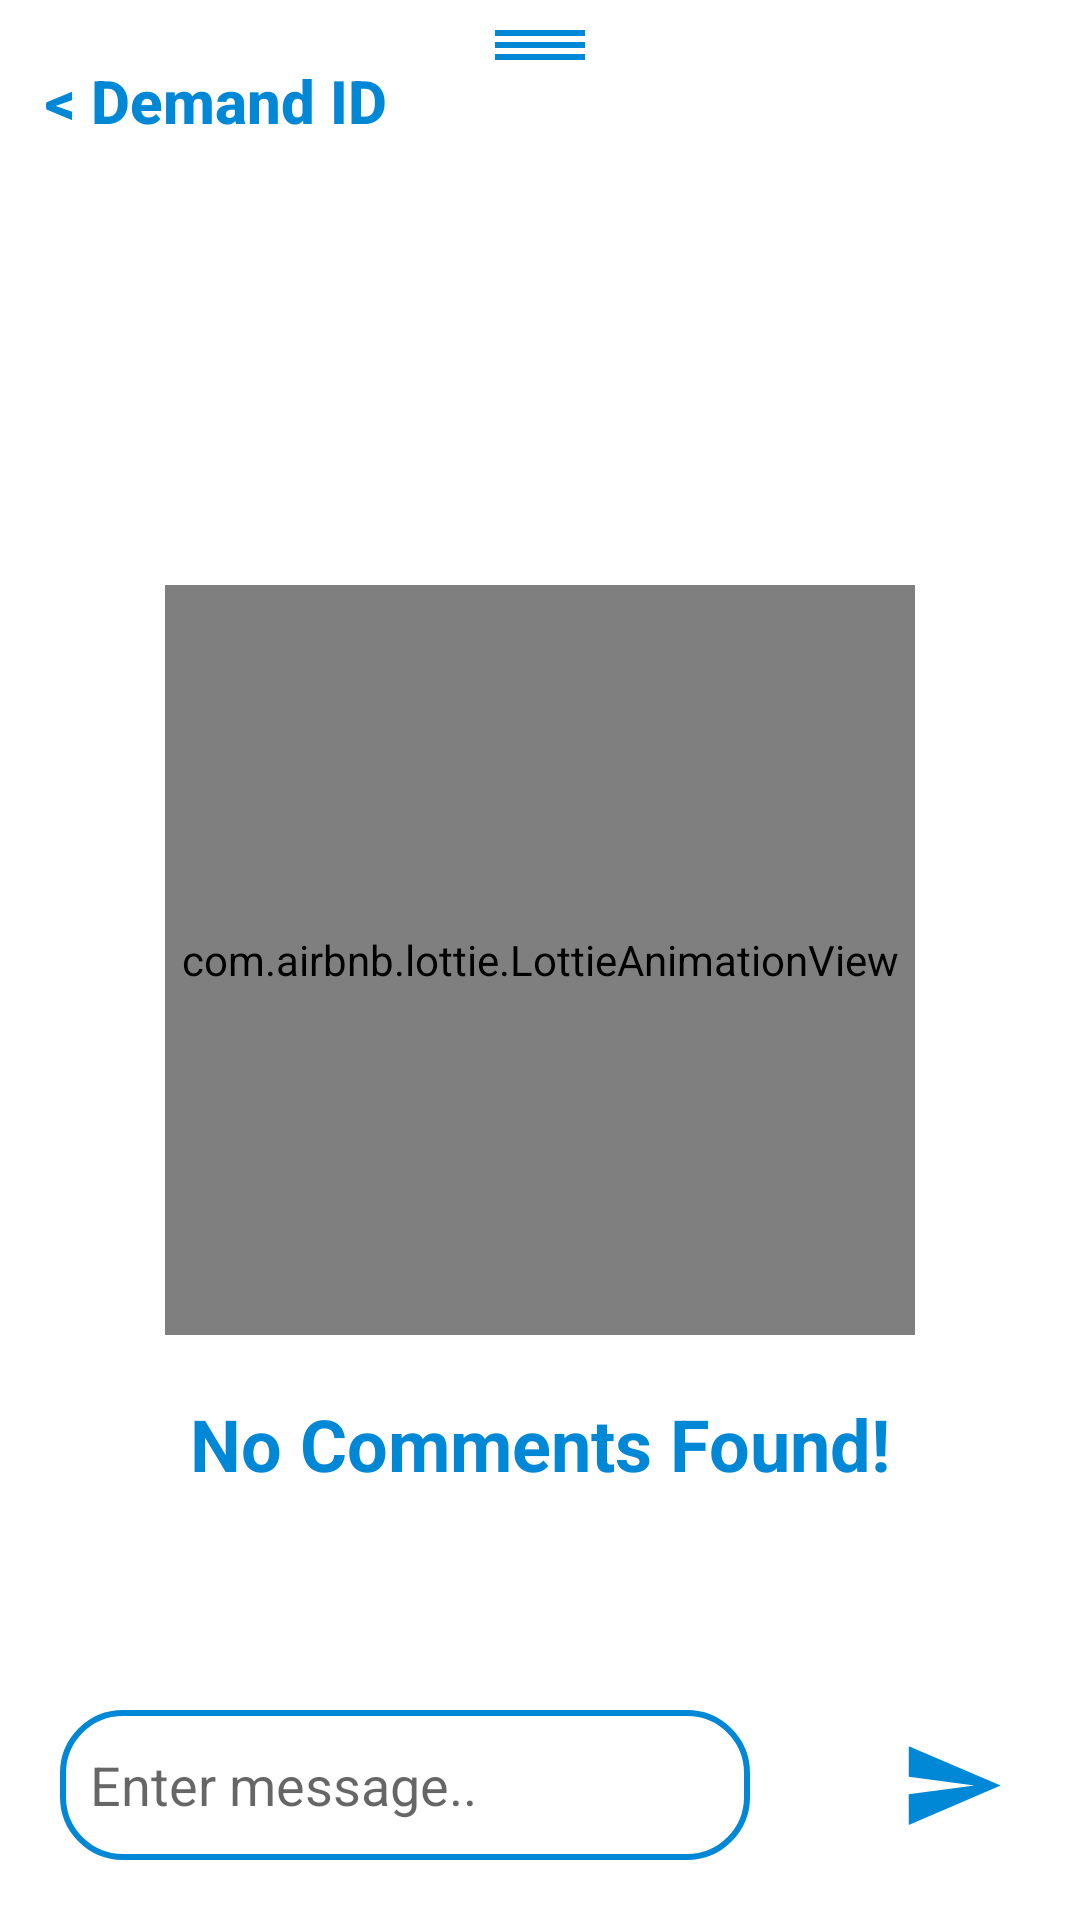

Screen size 1080 × 1920. Icon name, then its box in pixels as (left=x1, top=y1, right=x2, bottom=y2):
send: (left=908, top=1746, right=1001, bottom=1825)
